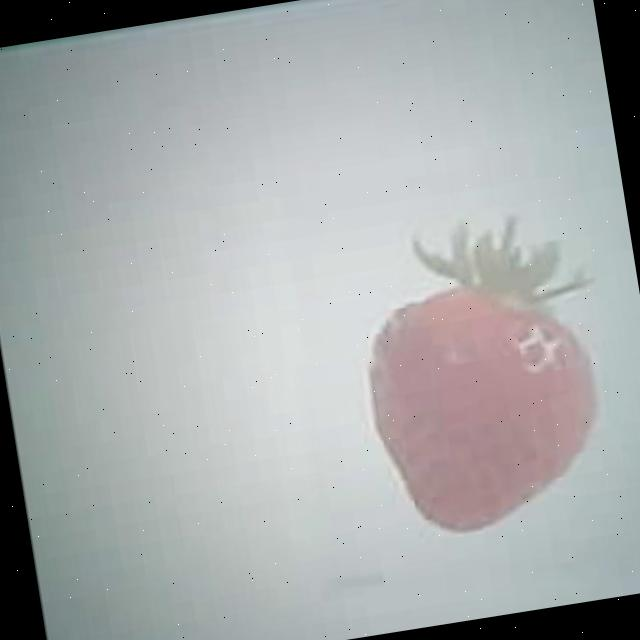strawberry: (354, 267, 614, 544)
